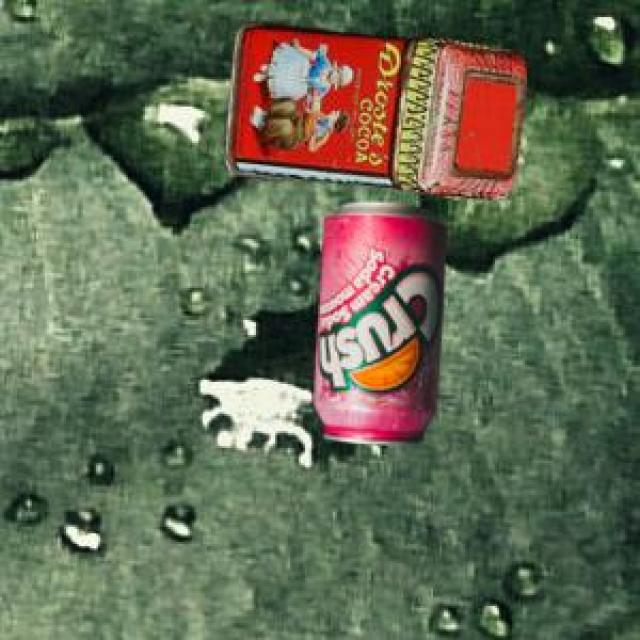logam: (223, 18, 524, 195), (310, 199, 443, 441)
